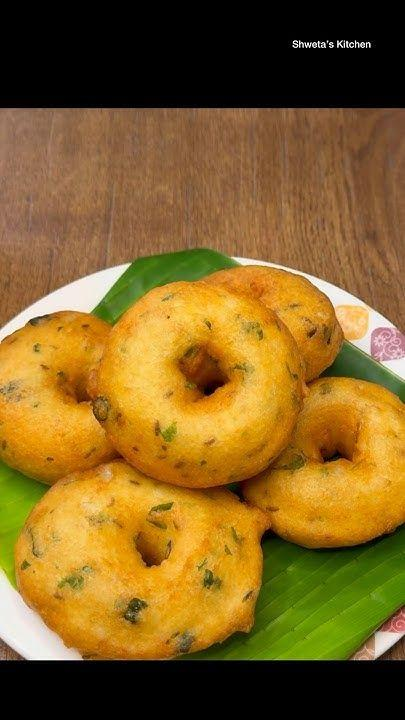medu vada: (0, 261, 405, 658)
